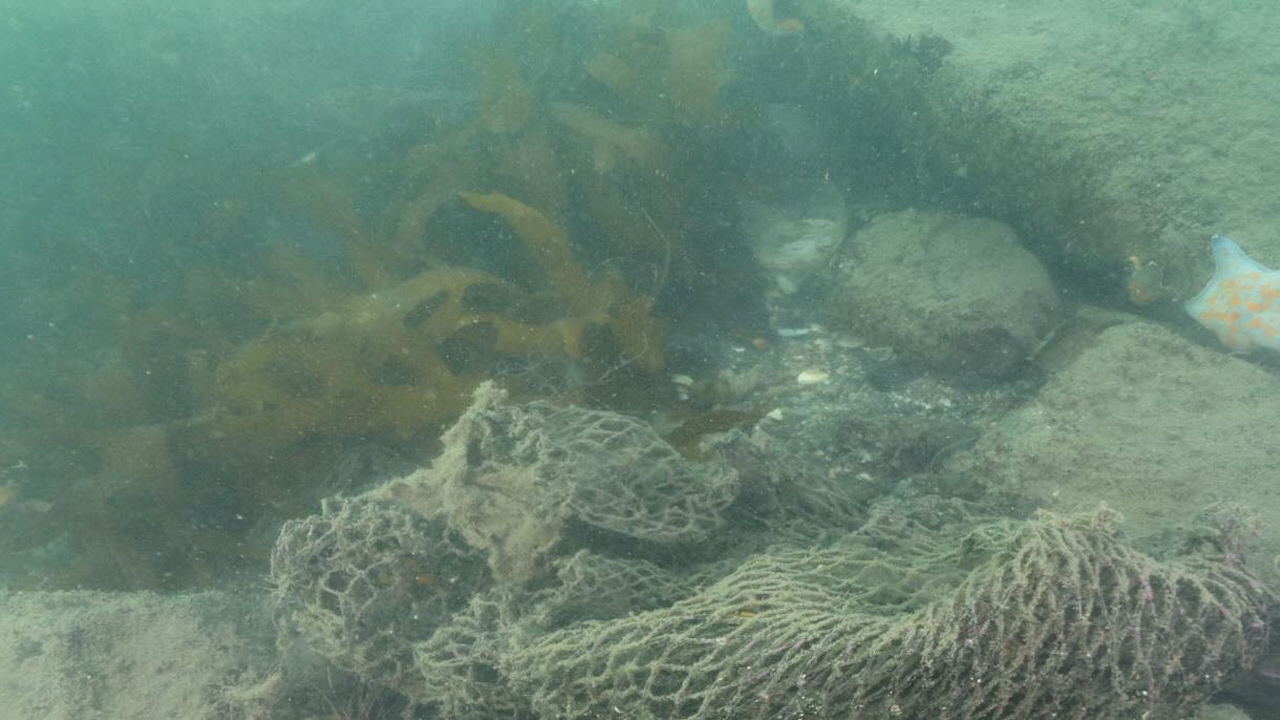fish net: (264, 395, 1273, 720)
